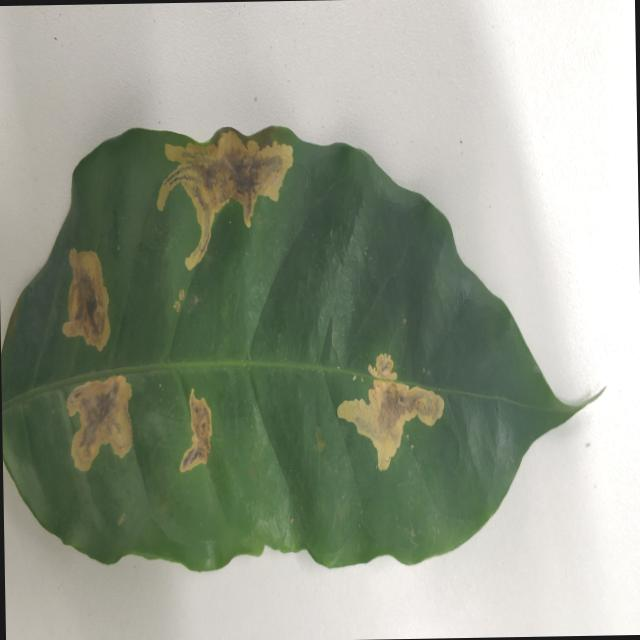KaratDaunKopi: (156, 131, 292, 270), (337, 353, 444, 470), (67, 376, 132, 470), (62, 248, 110, 351), (180, 389, 212, 472), (174, 300, 180, 313), (179, 289, 185, 301)
